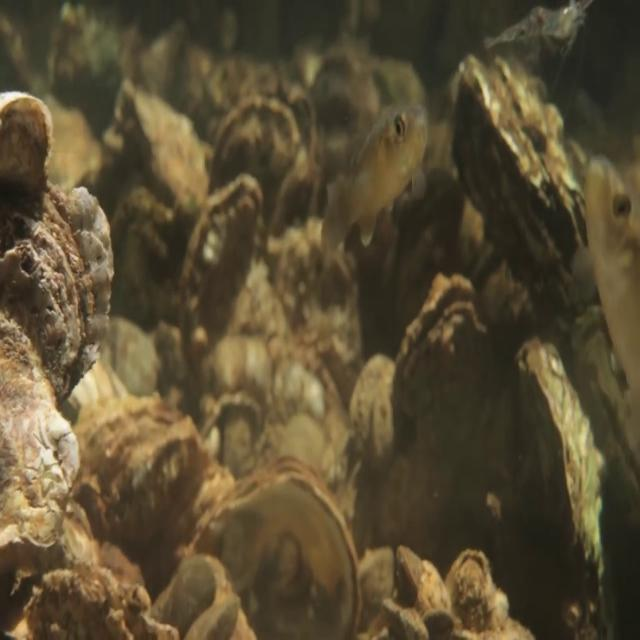Oyster-Closed: (450, 54, 632, 510), (177, 452, 362, 636), (512, 336, 613, 627), (97, 420, 215, 543), (395, 546, 452, 632)
Oyster-Indeterminate: (0, 178, 115, 411), (0, 315, 82, 574), (0, 91, 54, 212), (162, 554, 219, 639)
Oyster-Open: (369, 257, 494, 553), (182, 171, 263, 362), (446, 549, 497, 633)
